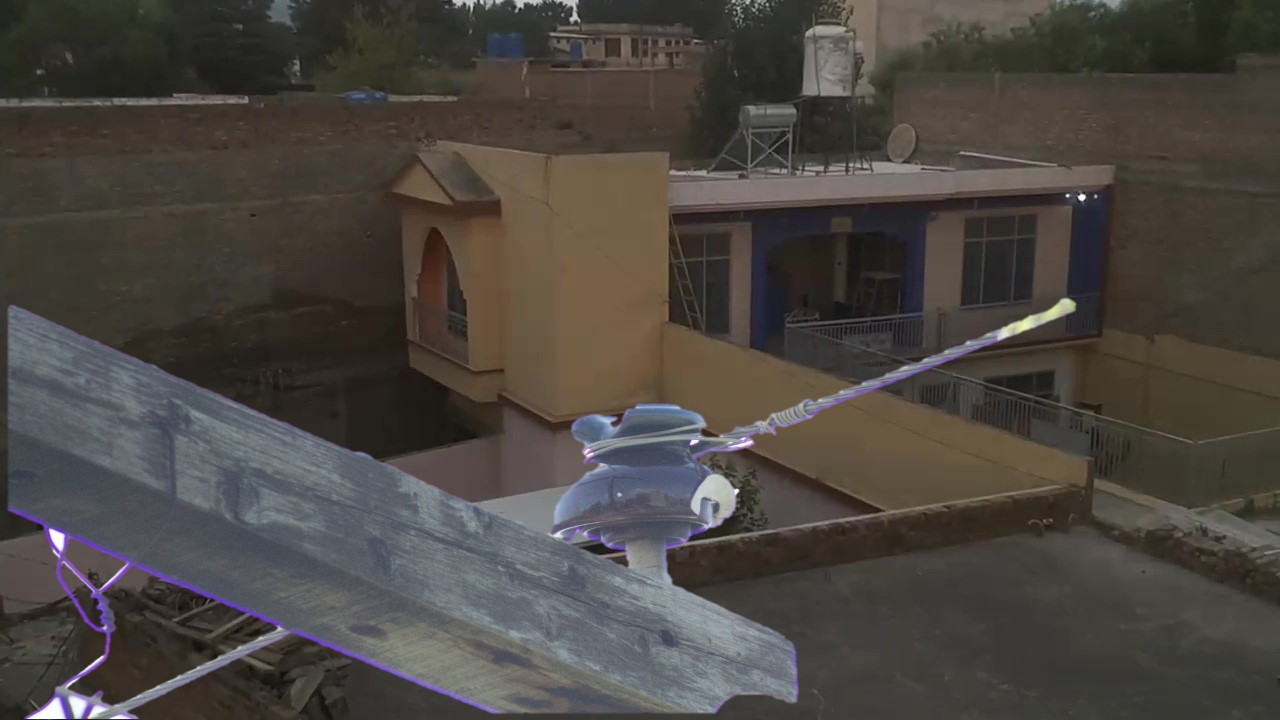defect_pin: (548, 397, 753, 564)
